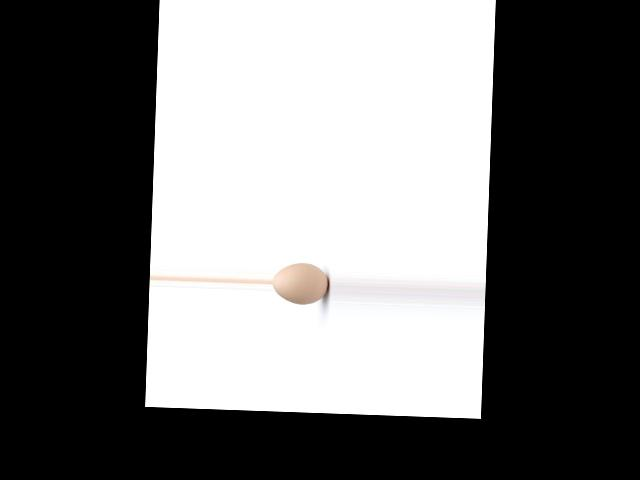egg: (272, 262, 329, 305)
